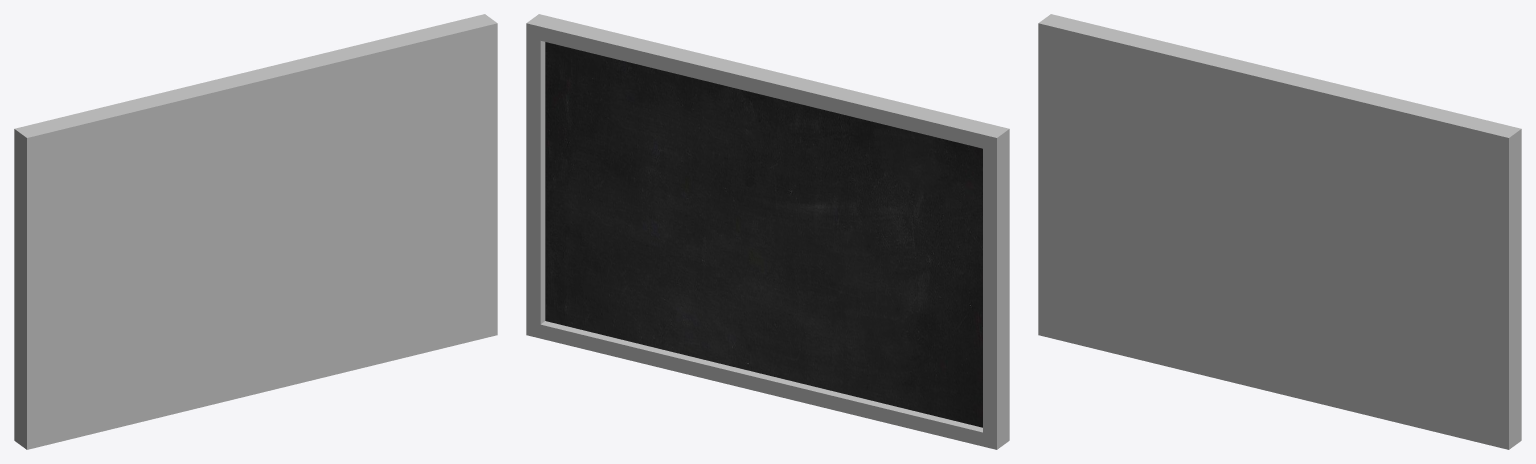
Rendered from blackboard.fbx.
3 renders of one model, left to right at view 1: azimuth 30°, elevation 25°; view 2: azimuth 150°, elevation 25°; view 3: azimuth 330°, elevation 25°, orthographic.
Parts seen in each view (by area): view 1: board; view 2: board; view 3: board.
Part boxes in pixels (x1=…): board: x1=14, y1=14, x2=497, y2=449; board: x1=526, y1=14, x2=1009, y2=449; board: x1=1038, y1=14, x2=1521, y2=449.
Bounding box in the file's own units: 94.86 × 60.08 × 4.42.
